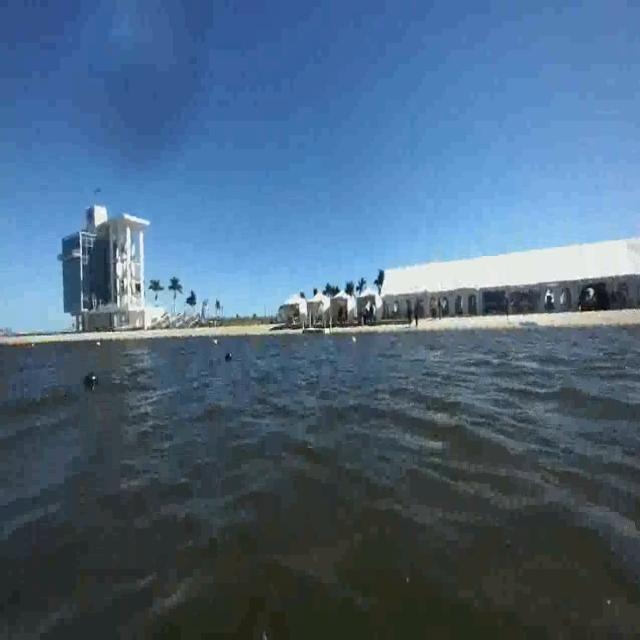black-buoy: (84, 367, 101, 394)
